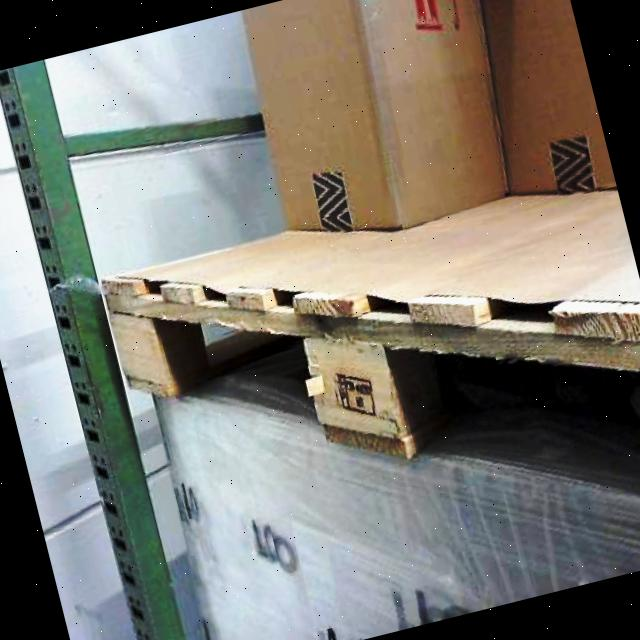ground: (135, 255, 640, 640)
pallet: (94, 143, 640, 530)
